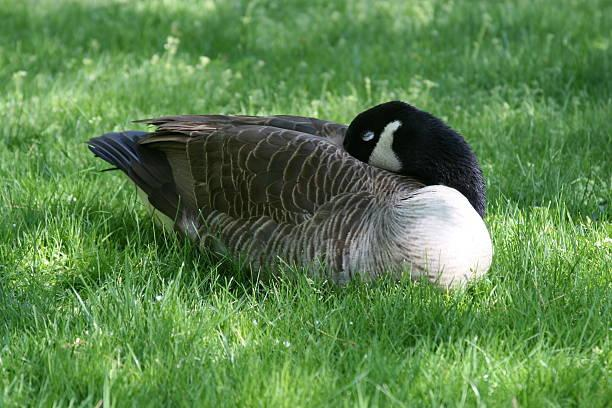Canadian-Goose: (90, 92, 500, 299)
